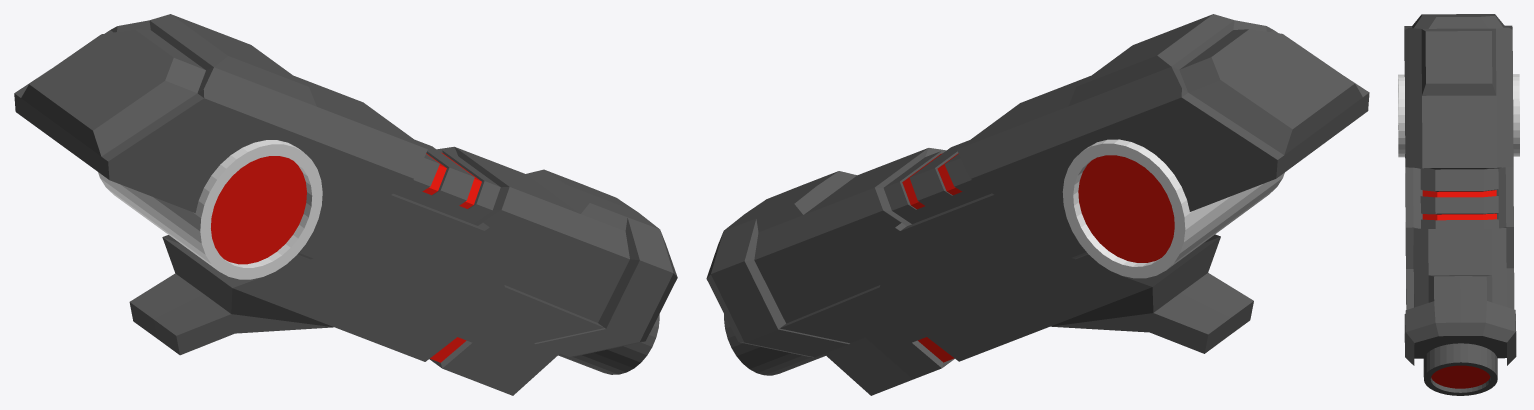
File: gunL.fbx
3 renders of one model, left to right at view 1: azimuth 30°, elevation 25°; view 2: azimuth 150°, elevation 25°; view 3: azimuth 270°, elevation 25°, orthographic. The views are drawn at different scales.
Parts seen in each view (by area): view 1: 立方體.032; view 2: 立方體.032; view 3: 立方體.032.
Part boxes in pixels (left/top/right/bottom): 立方體.032: left=14, top=14, right=677, bottom=395; 立方體.032: left=706, top=14, right=1369, bottom=395; 立方體.032: left=1398, top=14, right=1519, bottom=395.
Bounding box in the file's own units: 237 × 167 × 73.15.
